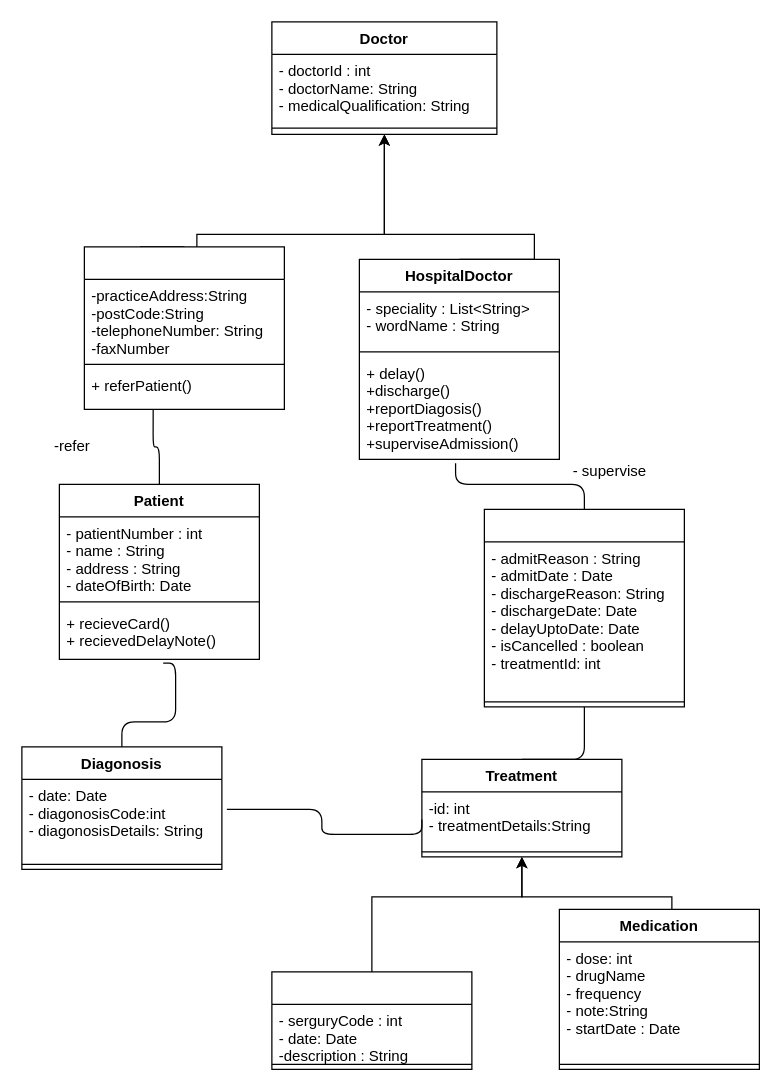
Image size: 781x1091. Some labels were removed from this diagram. The shapes that lost their labels are listed below. From the top down, each one's box as (x1, y1, x2, y2) in pixels, then its label:
(83, 246, 284, 409): CommunityDoctor
(483, 508, 684, 707): AdmissionEpisode
(271, 971, 472, 1069): Surgery
